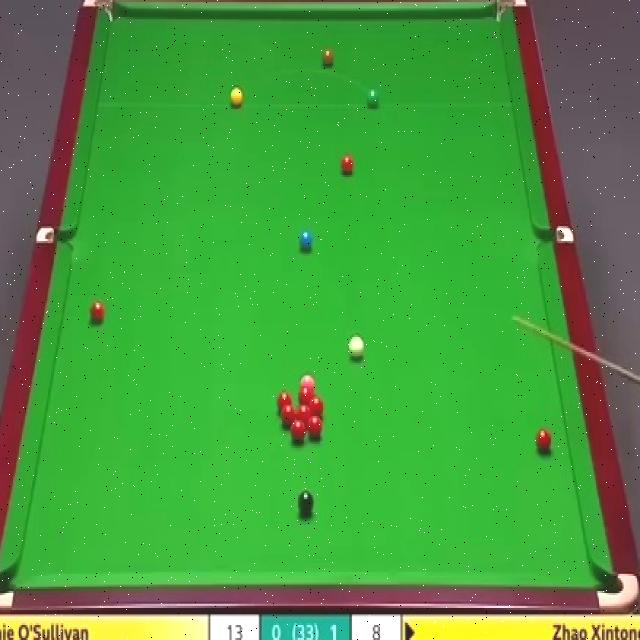black-ball: (296, 488, 314, 518)
blue-ball: (298, 229, 313, 253)
brown-ball: (321, 48, 335, 69)
green-ball: (365, 88, 381, 111)
pink-ball: (299, 373, 316, 386)
red-ball: (88, 300, 106, 329), (535, 428, 552, 455), (307, 417, 323, 441), (276, 389, 292, 412), (291, 419, 306, 442), (309, 396, 322, 419), (298, 386, 314, 404), (341, 154, 354, 175), (298, 404, 314, 419), (284, 405, 298, 420)
white-ball: (348, 335, 367, 362)
yellow-ball: (230, 87, 243, 108)
